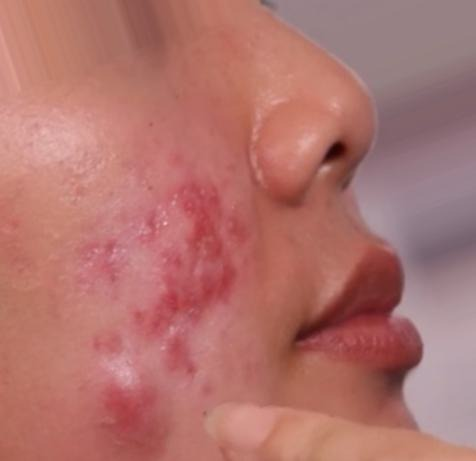Acne: (62, 167, 255, 449)
